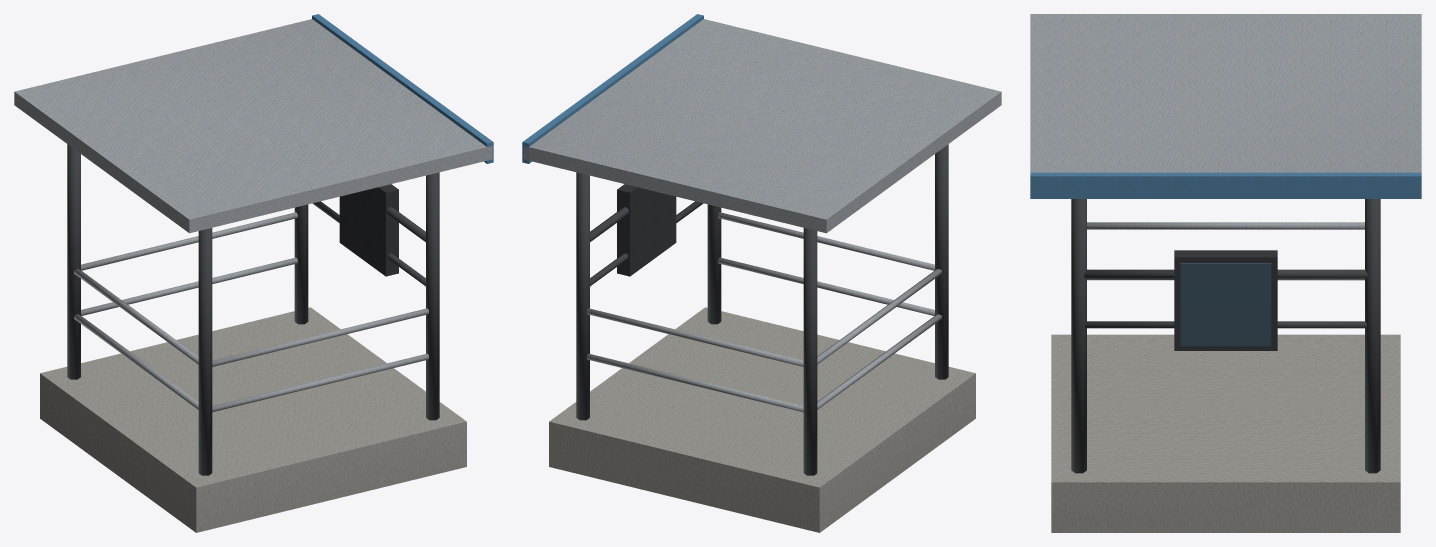
Rendered from marshal-post_mobile.glb.
The picture shows the model from 3 angles, left to right: view 1: azimuth 30°, elevation 25°; view 2: azimuth 150°, elevation 25°; view 3: azimuth 270°, elevation 25°; orthographic projection. The views are drawn at different scales.
Parts seen in each view (by area): view 1: galvanised, concrete, dark-steel, rubber, paint-band; view 2: galvanised, concrete, dark-steel, rubber, paint-band; view 3: galvanised, concrete, dark-steel, paint-band, glazing, rubber.
Part boxes in pixels (left/top/right/bottom): galvanised: left=14, top=19, right=492, bottom=412; concrete: left=40, top=307, right=466, bottom=532; dark-steel: left=67, top=144, right=439, bottom=475; rubber: left=339, top=184, right=398, bottom=276; paint-band: left=312, top=14, right=493, bottom=163; galvanised: left=523, top=19, right=1001, bottom=412; concrete: left=549, top=307, right=975, bottom=532; dark-steel: left=576, top=144, right=948, bottom=475; rubber: left=617, top=184, right=676, bottom=276; paint-band: left=522, top=14, right=703, bottom=163; galvanised: left=1030, top=14, right=1421, bottom=280; concrete: left=1051, top=334, right=1400, bottom=532; dark-steel: left=1071, top=199, right=1380, bottom=473; paint-band: left=1030, top=172, right=1421, bottom=198; glazing: left=1180, top=263, right=1271, bottom=346; rubber: left=1174, top=250, right=1277, bottom=350.
Bounding box in the file's own units: 2.81 × 2.89 × 2.8.
6 materials, 5 textured.
